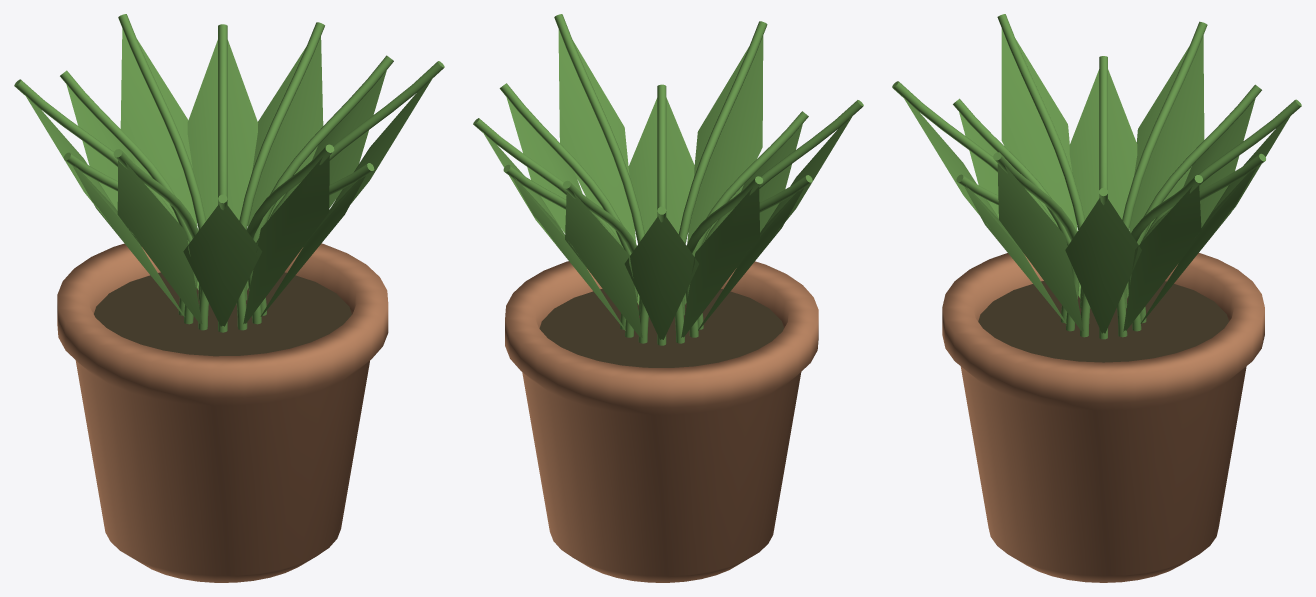
Rendered from sku_herb_plant.glb.
The picture shows the model from 3 angles, left to right: view 1: azimuth 30°, elevation 25°; view 2: azimuth 150°, elevation 25°; view 3: azimuth 270°, elevation 25°; orthographic projection. The views are drawn at different scales.
Parts seen in each view (by area): view 1: sku_herb_plant_Terracotta, sku_herb_plant_Herb_leaf, sku_herb_plant_Potting_mix; view 2: sku_herb_plant_Terracotta, sku_herb_plant_Herb_leaf, sku_herb_plant_Potting_mix; view 3: sku_herb_plant_Terracotta, sku_herb_plant_Herb_leaf, sku_herb_plant_Potting_mix.
Part boxes in pixels (bbox=[...]): sku_herb_plant_Terracotta: bbox=[57, 243, 388, 582]; sku_herb_plant_Herb_leaf: bbox=[14, 14, 444, 332]; sku_herb_plant_Potting_mix: bbox=[94, 272, 351, 356]; sku_herb_plant_Terracotta: bbox=[505, 261, 818, 582]; sku_herb_plant_Herb_leaf: bbox=[473, 14, 863, 345]; sku_herb_plant_Potting_mix: bbox=[539, 289, 783, 367]; sku_herb_plant_Terracotta: bbox=[942, 253, 1264, 582]; sku_herb_plant_Herb_leaf: bbox=[892, 14, 1301, 339]; sku_herb_plant_Potting_mix: bbox=[978, 281, 1228, 362].
Bounding box in the file's own units: 0.242 × 0.3363 × 0.2667.
